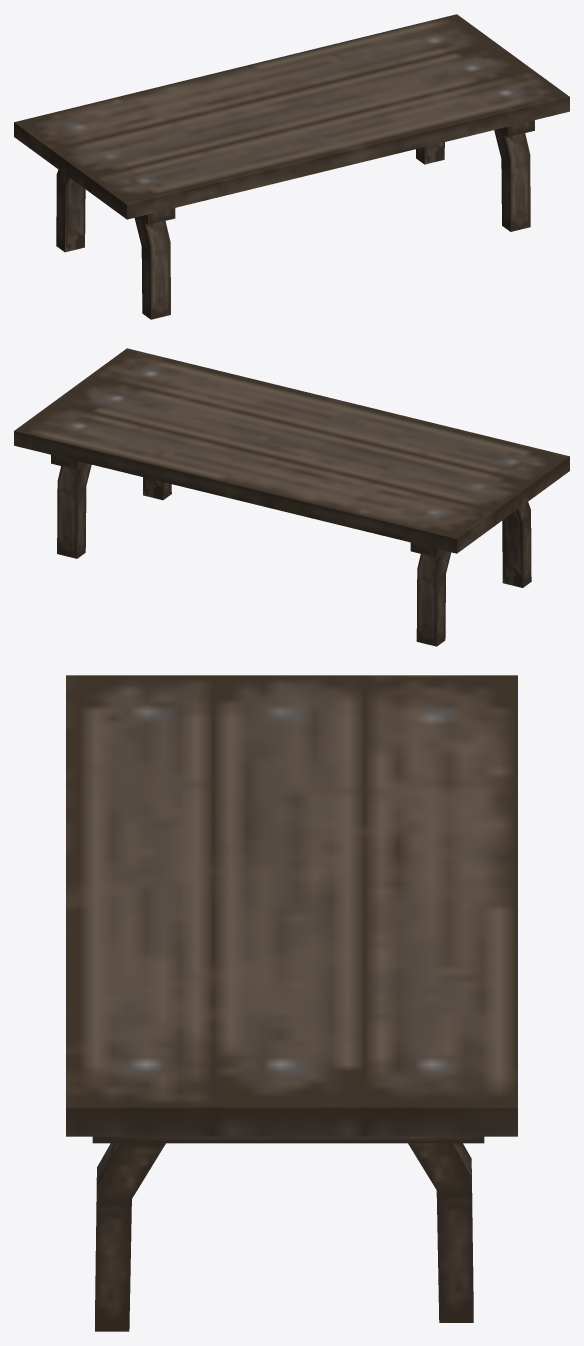
Rendered from wooden_table1.fbx.
The picture shows the model from 3 angles, top to bottom: view 1: azimuth 30°, elevation 25°; view 2: azimuth 150°, elevation 25°; view 3: azimuth 270°, elevation 25°; orthographic projection. The views are drawn at different scales.
Visible parts, largest first — view 1: Cube__32_32; view 2: Cube__32_32; view 3: Cube__32_32.
Part boxes in pixels (box(x1,y1,x2,y2)): Cube__32_32: box(14, 14, 569, 319); Cube__32_32: box(14, 348, 569, 646); Cube__32_32: box(66, 675, 517, 1331).
Size of the model in its own units: 567 by 156 by 251.
